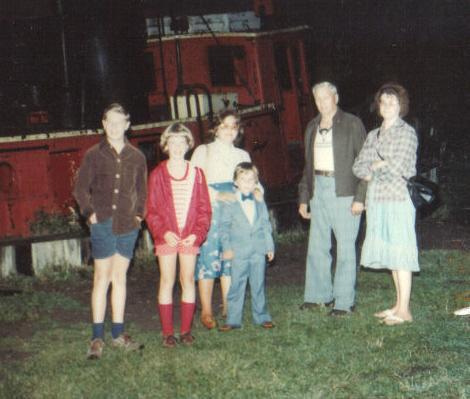without_mask: (101, 110, 131, 144), (164, 132, 190, 161), (214, 115, 240, 142), (314, 88, 338, 115), (378, 92, 401, 120), (235, 168, 258, 192)
